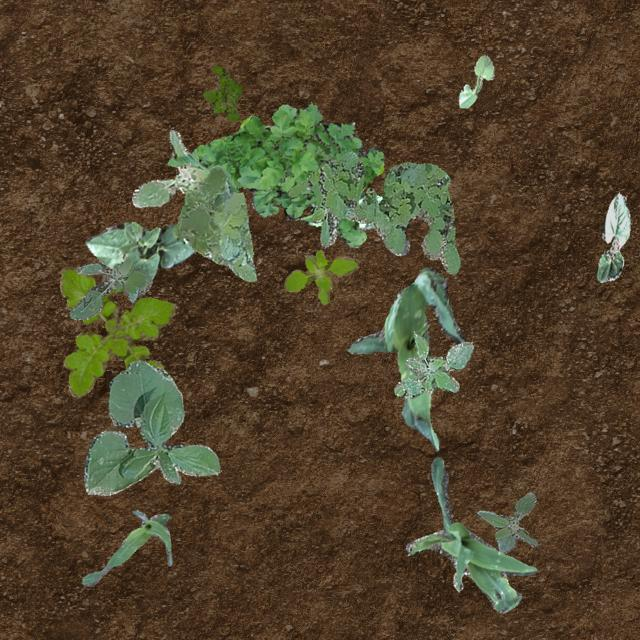crop: (346, 266, 464, 448), (404, 456, 536, 612), (82, 360, 218, 494), (82, 508, 172, 586), (84, 220, 194, 278), (594, 192, 628, 282), (308, 192, 382, 228), (458, 54, 493, 106)
weed: (166, 102, 382, 246), (287, 150, 458, 274), (60, 266, 174, 396), (172, 164, 256, 280), (130, 130, 208, 207), (392, 332, 472, 398), (68, 256, 152, 318), (282, 248, 356, 304), (476, 492, 536, 552), (202, 66, 242, 120)
